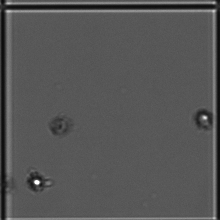Dead Cell: (45, 113, 70, 138)
Living Cell: (26, 169, 48, 199), (190, 106, 211, 132)
